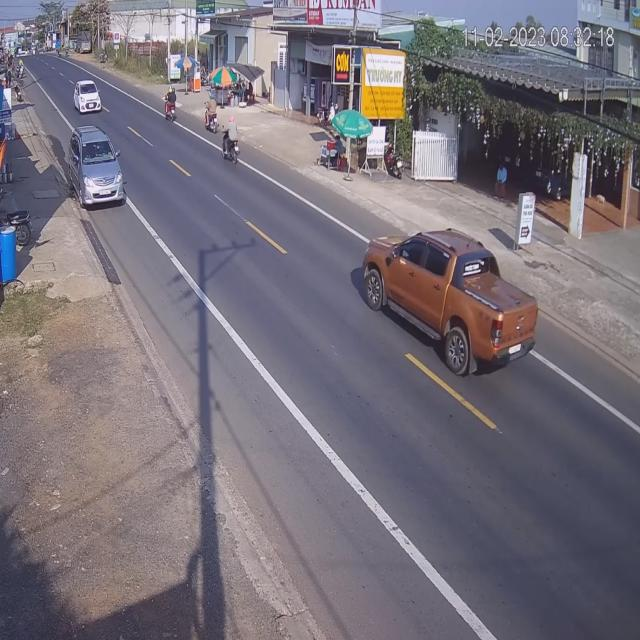car: (359, 230, 538, 376), (66, 128, 126, 211), (72, 78, 102, 115)
motorbike: (223, 122, 243, 168), (205, 98, 220, 134), (164, 88, 178, 125)
